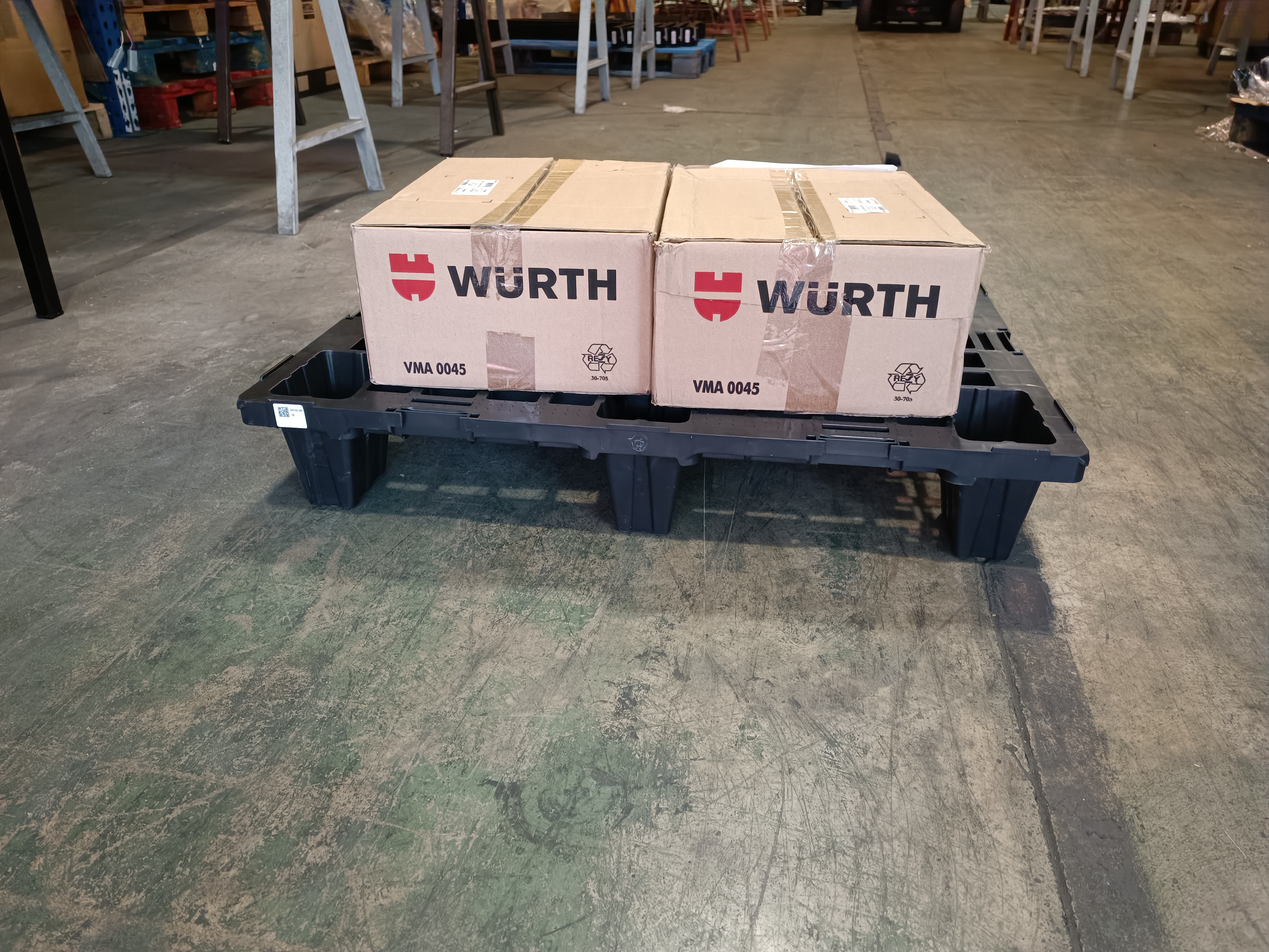block: (945, 468, 1046, 569), (275, 425, 362, 501), (602, 457, 687, 534)
front: (244, 403, 1080, 581)
hole pallet: (673, 467, 953, 548), (354, 431, 614, 516)
